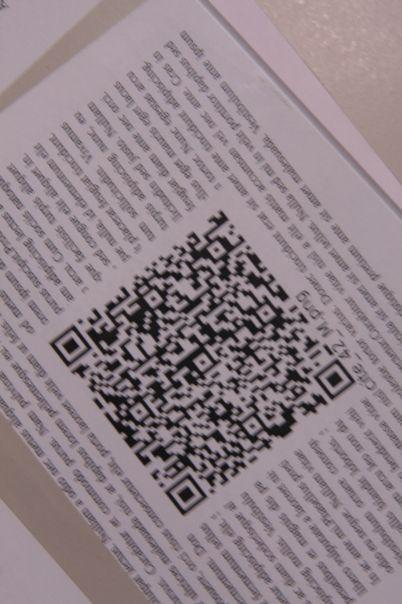Finder pattern: (49, 326, 92, 367), (316, 356, 356, 400), (164, 473, 208, 513)
